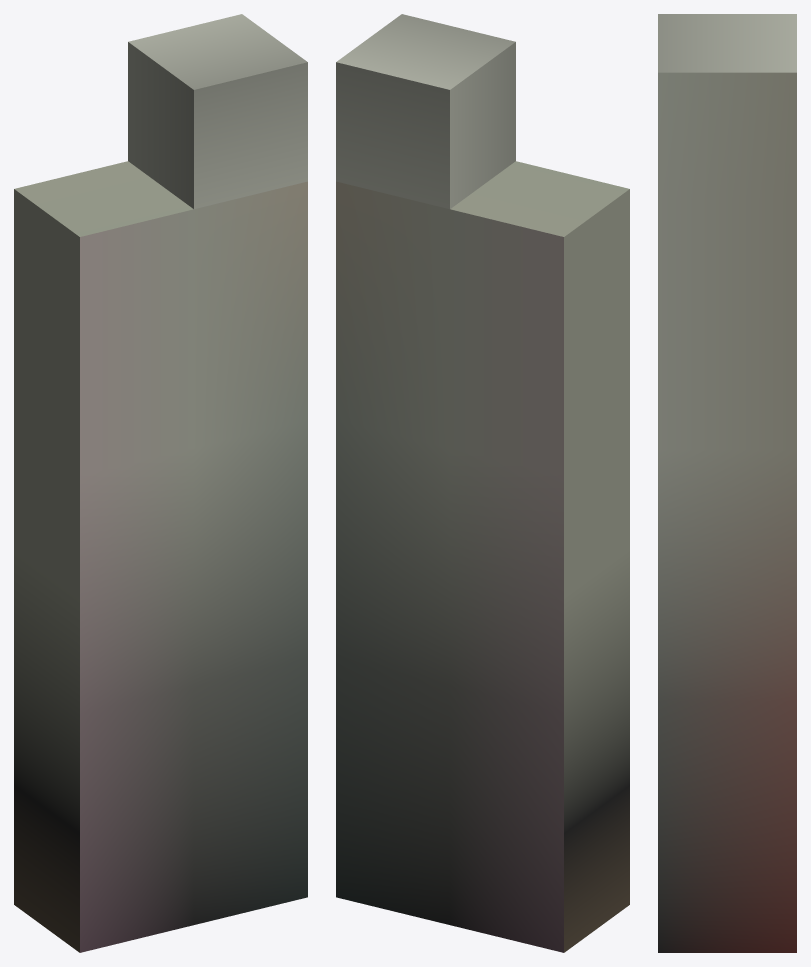
File: Knife_00.obj
The picture shows the model from 3 angles, left to right: view 1: azimuth 30°, elevation 25°; view 2: azimuth 150°, elevation 25°; view 3: azimuth 270°, elevation 25°; orthographic projection. The views are drawn at different scales.
Parts seen in each view (by area): view 1: Knife_00; view 2: Knife_00; view 3: Knife_00.
Boxes of the visible parts, left/top/right/bottom form: Knife_00: left=14, top=14, right=307, bottom=952; Knife_00: left=336, top=14, right=629, bottom=952; Knife_00: left=658, top=14, right=796, bottom=952.
Bounding box in the file's own units: 0.1 × 0.35 × 0.05.
